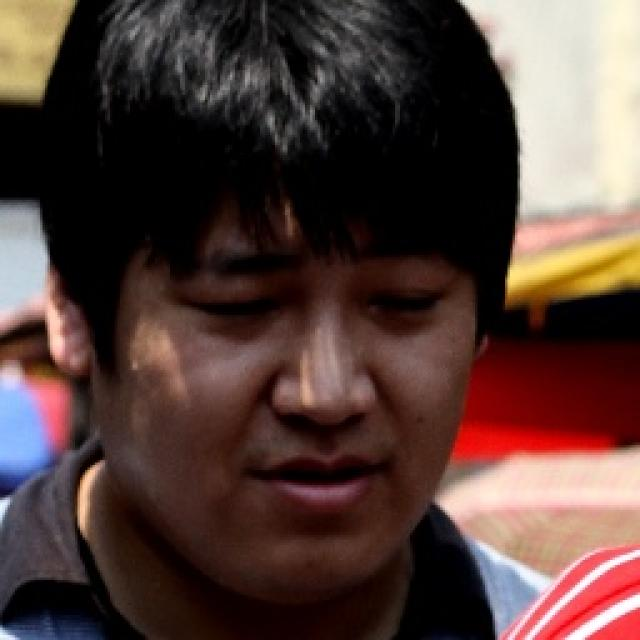earlobe: (52, 328, 92, 377)
eye: (178, 290, 282, 324), (364, 285, 446, 318)
nose: (272, 406, 378, 461)
